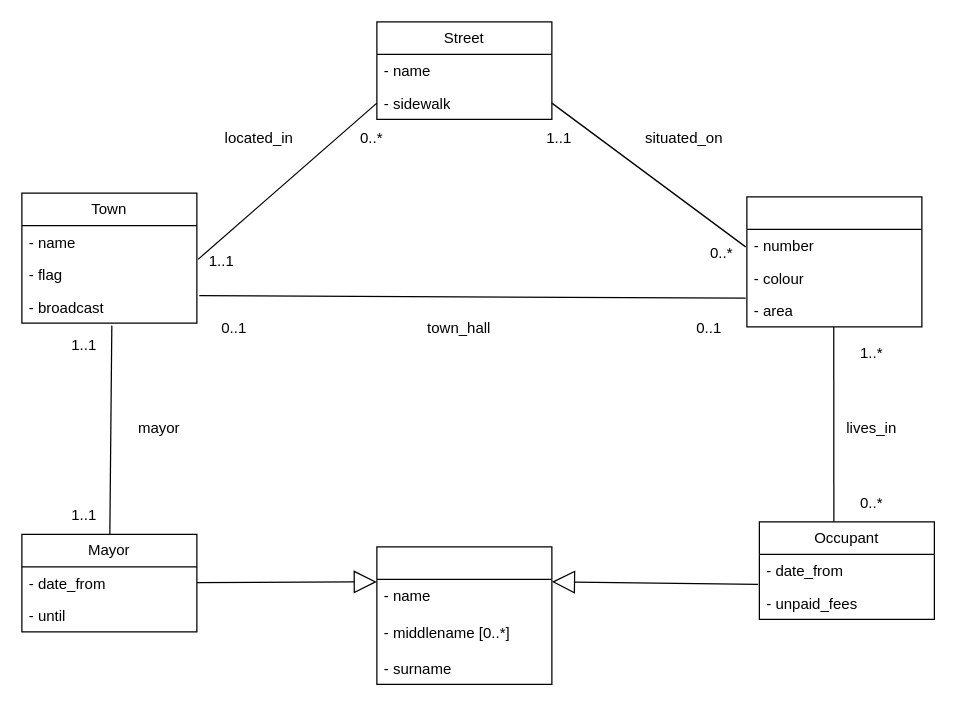
The diagram is 956 pixels wide and 710 high, and some of its shapes have lost their labels. The box of each missing label's shape, as (x1, y1, x2, y2) in pixels:
House: (746, 196, 922, 327)
Person: (376, 546, 552, 684)
